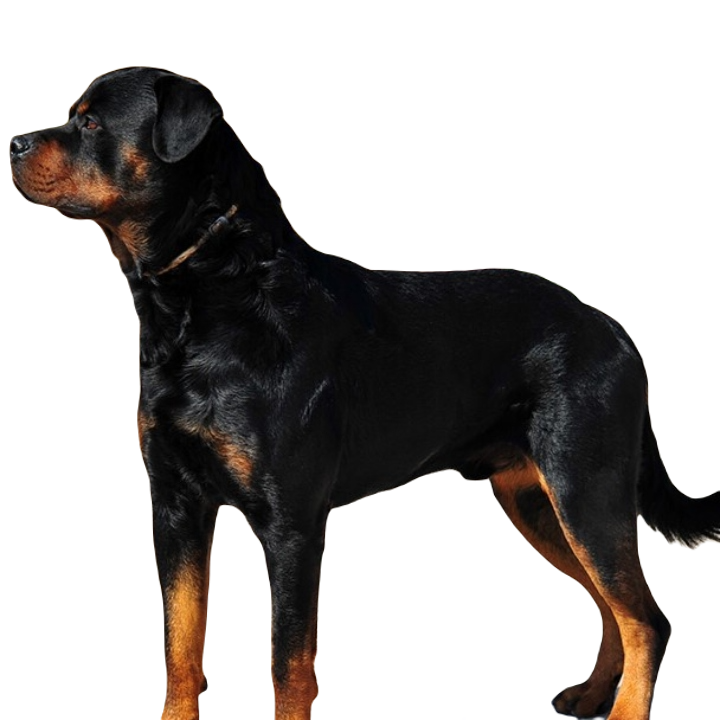Dog: (12, 62, 719, 719)
